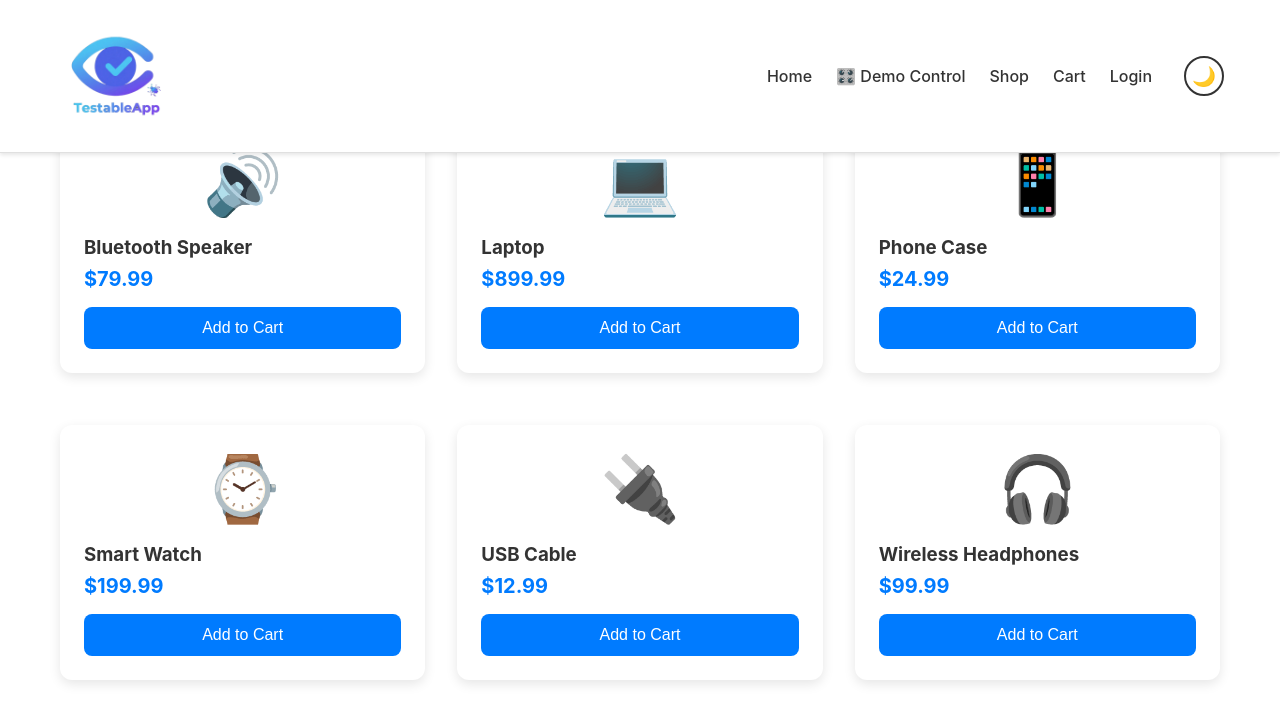
Test: Shopping Flow › Shop Page › should increase cart quantity when adding same product multiple times
(page scrolled)
Click the button with test id "add-to-cart-1" at (1038, 635), box [879,614,1196,656]
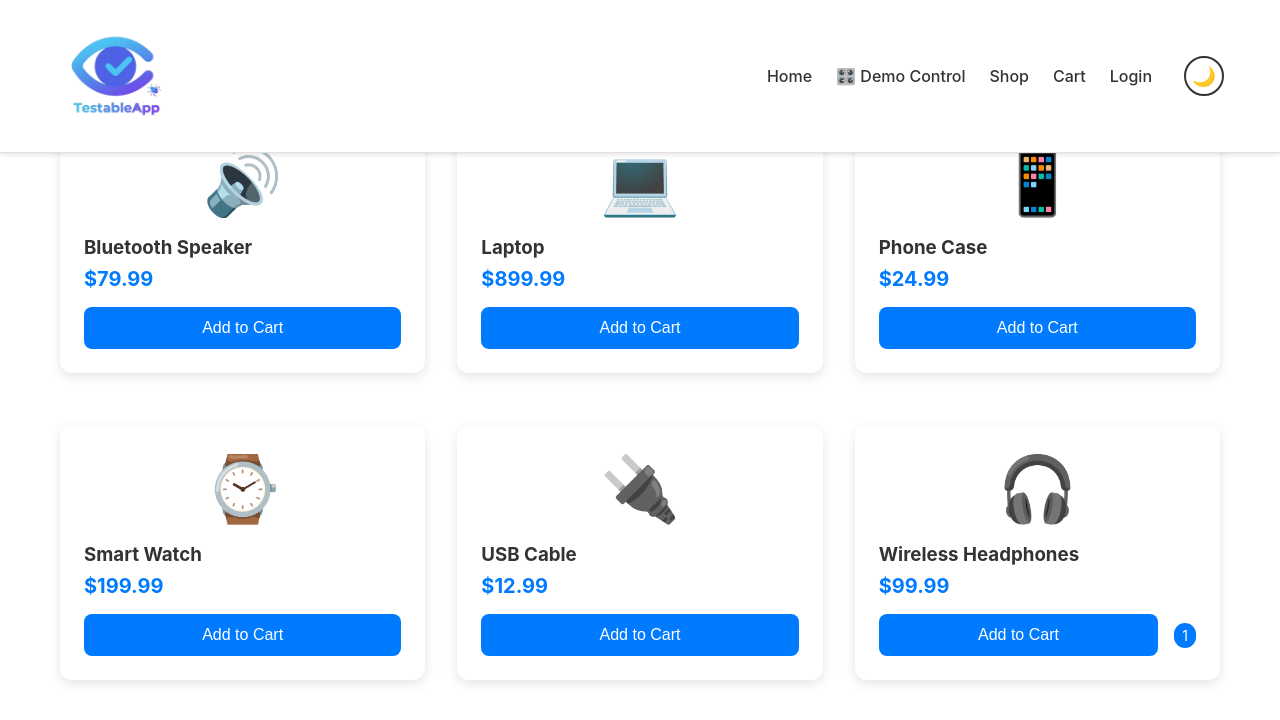
Click the button with test id "add-to-cart-1" at (1019, 635), box [879,614,1159,656]
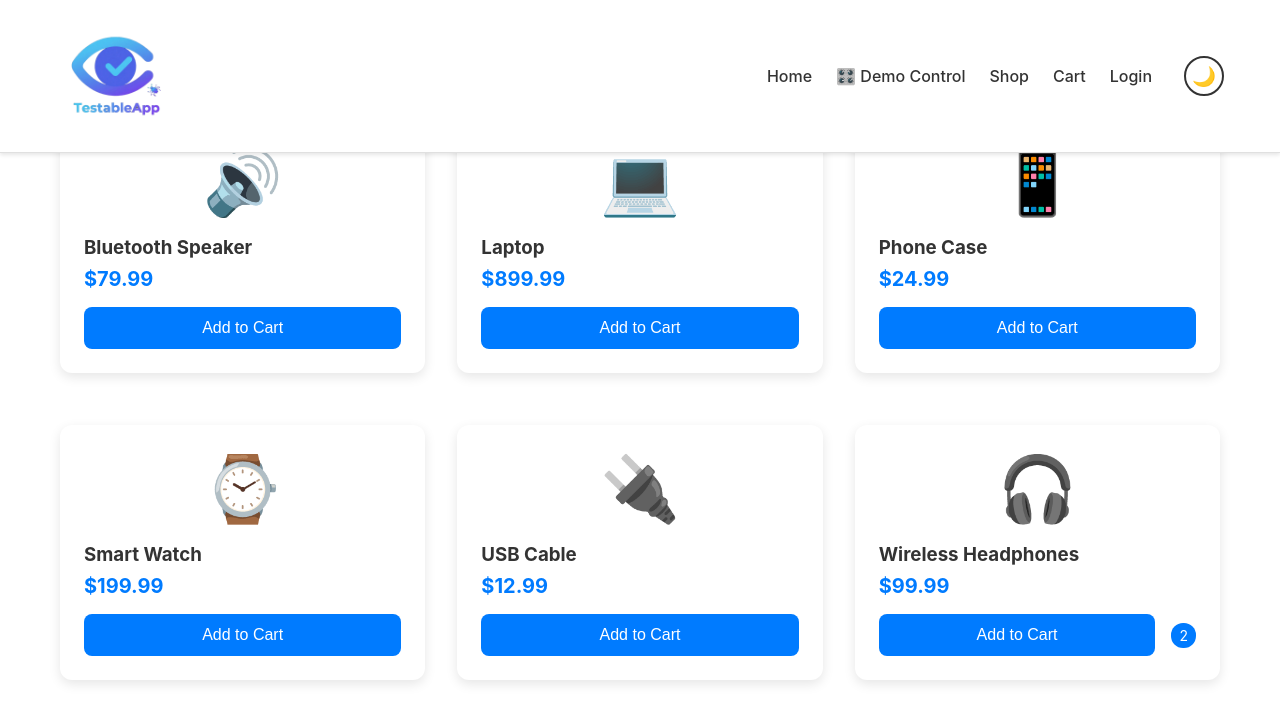
Expected: the text with test id "cart-quantity-1" reads "2", [1179,627,1188,644]
